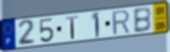1: (91, 11, 101, 39)
2: (17, 19, 37, 48)
5: (39, 17, 55, 43)
B: (132, 6, 153, 34)
R: (111, 9, 132, 37)
T: (65, 15, 80, 41)
